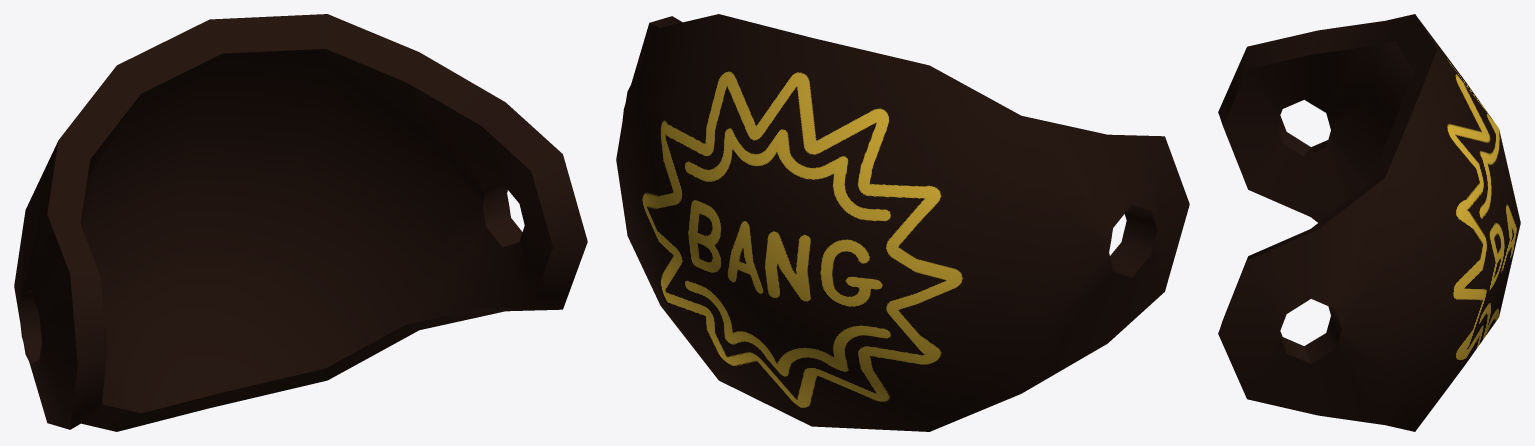
File: marbleHolder.fbx
The picture shows the model from 3 angles, left to right: view 1: azimuth 30°, elevation 25°; view 2: azimuth 150°, elevation 25°; view 3: azimuth 270°, elevation 25°; orthographic projection. The views are drawn at different scales.
Visible parts, largest first — view 1: marbleHolder; view 2: marbleHolder; view 3: marbleHolder.
Part boxes in pixels (x1,y1,x2,y2): marbleHolder: (14,14,587,431); marbleHolder: (616,14,1189,431); marbleHolder: (1218,14,1520,431).
Size of the model in its own units: 1.11 by 0.6354 by 0.8018.
